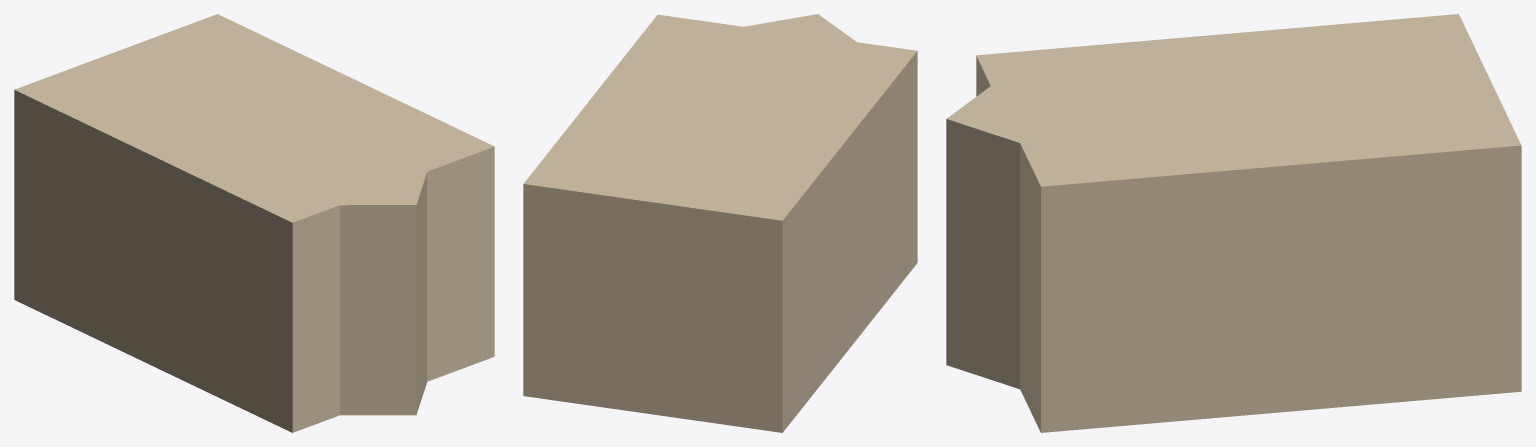
File: 4_-2-estimated-coarse.glb
The picture shows the model from 3 angles, left to right: view 1: azimuth 30°, elevation 25°; view 2: azimuth 150°, elevation 25°; view 3: azimuth 270°, elevation 25°; orthographic projection. The views are drawn at different scales.
Bounding box in the file's own units: 18.06 × 12 × 25.4.
